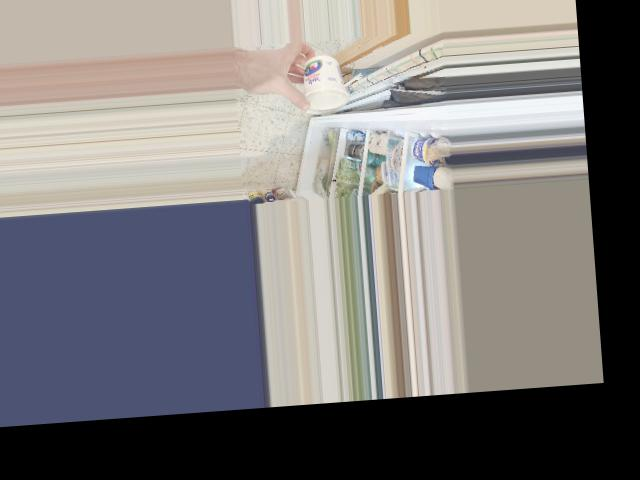cotage: (303, 49, 347, 111)
